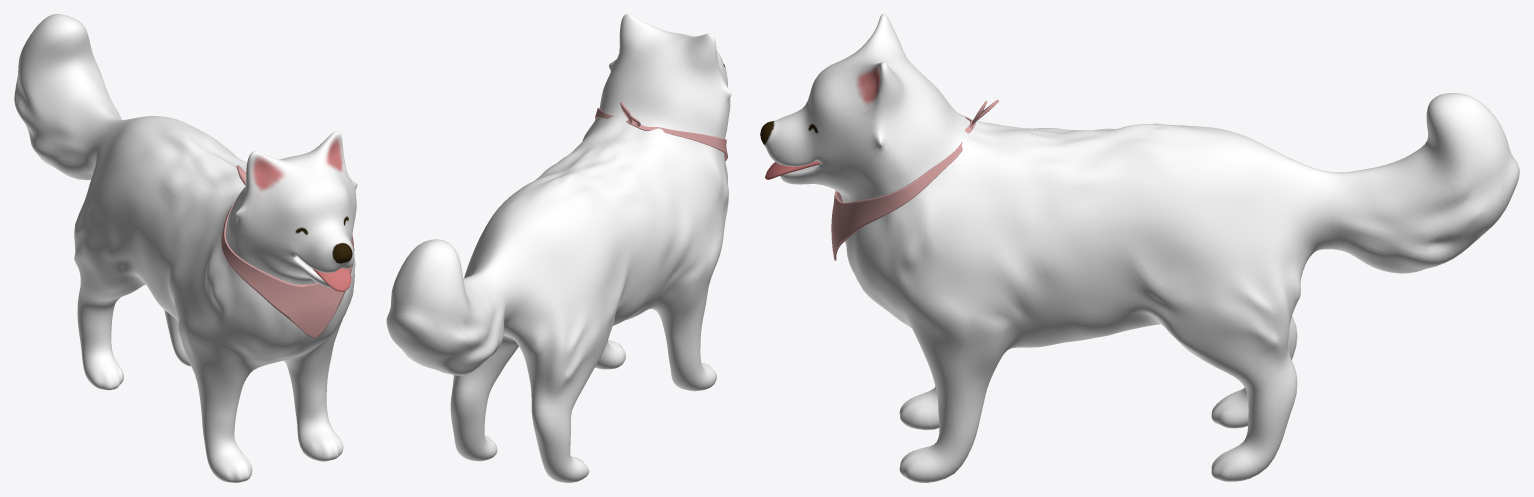
File: Dog.fbx
3 renders of one model, left to right at view 1: azimuth 30°, elevation 25°; view 2: azimuth 150°, elevation 25°; view 3: azimuth 270°, elevation 25°, orthographic. The views are drawn at different scales.
Parts seen in each view (by area): view 1: dog2:ZBrush_defualt_group, dog006:Mesh, dog005:Mesh; view 2: dog2:ZBrush_defualt_group, dog006:Mesh; view 3: dog2:ZBrush_defualt_group, dog006:Mesh.
Part boxes in pixels (x1=…): dog2:ZBrush_defualt_group: x1=14, y1=14, x2=357, y2=482; dog006:Mesh: x1=221, y1=165, x2=354, y2=338; dog005:Mesh: x1=312, y1=268, x2=351, y2=291; dog2:ZBrush_defualt_group: x1=386, y1=14, x2=731, y2=482; dog006:Mesh: x1=595, y1=102, x2=727, y2=161; dog2:ZBrush_defualt_group: x1=760, y1=14, x2=1519, y2=482; dog006:Mesh: x1=831, y1=99, x2=998, y2=260.
Bounding box in the file's own units: 23.7 × 50.03 × 83.57.
Materials: 3 (1 with a texture image).
